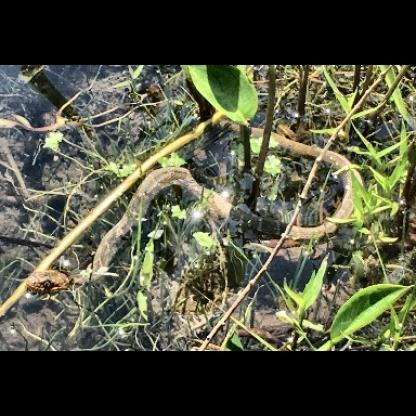Snake: (96, 160, 228, 270), (23, 242, 114, 299)
